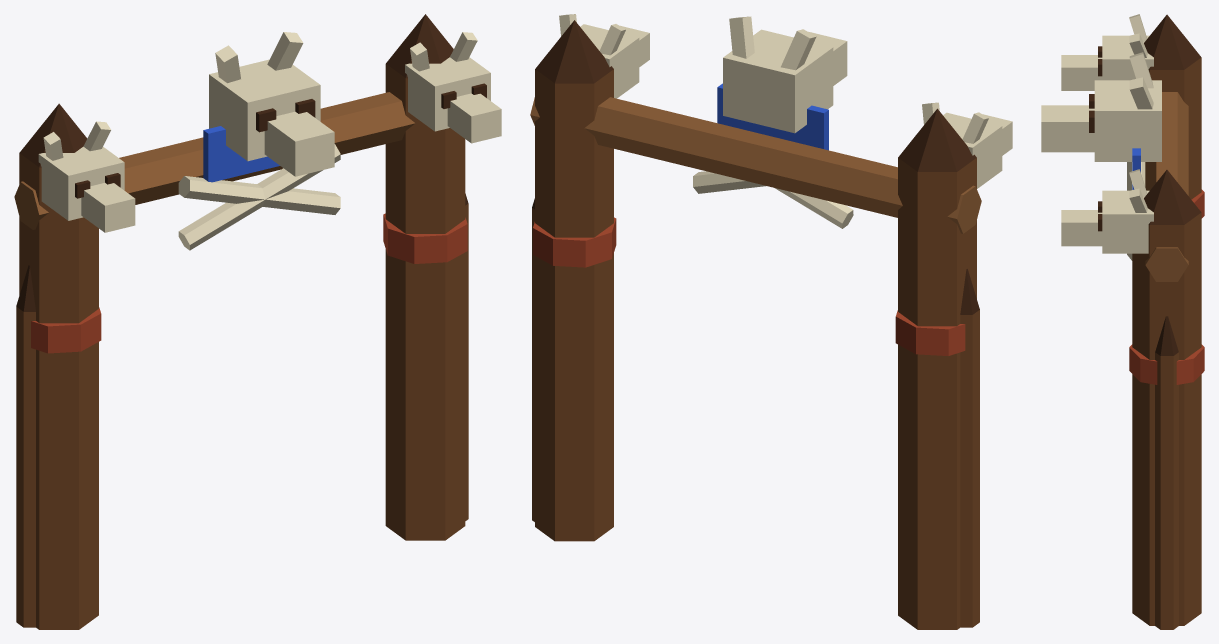
The model's file is WallGate.glb.
The picture shows the model from 3 angles, left to right: view 1: azimuth 30°, elevation 25°; view 2: azimuth 150°, elevation 25°; view 3: azimuth 270°, elevation 25°; orthographic projection. The views are drawn at different scales.
Visible parts, largest first — view 1: WallGate; view 2: WallGate; view 3: WallGate.
Boxes of the visible parts, x1=… form: WallGate: x1=14, y1=14, x2=501, y2=629; WallGate: x1=530, y1=14, x2=1012, y2=629; WallGate: x1=1041, y1=14, x2=1204, y2=629.
Size of the model in its own units: 2.06 by 2.4 by 0.758.
